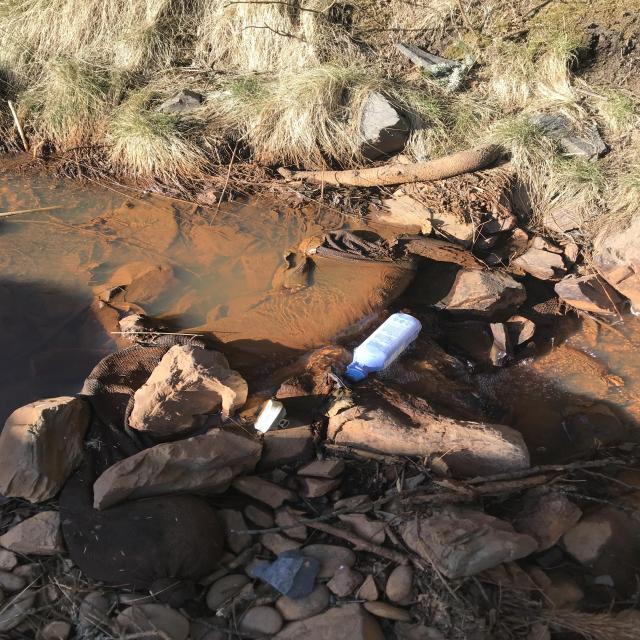Food Can: (254, 400, 289, 433)
Other plastic container: (345, 313, 422, 382)
Plastic bottle cap: (345, 370, 363, 382)
Pop tab: (279, 419, 290, 428)
